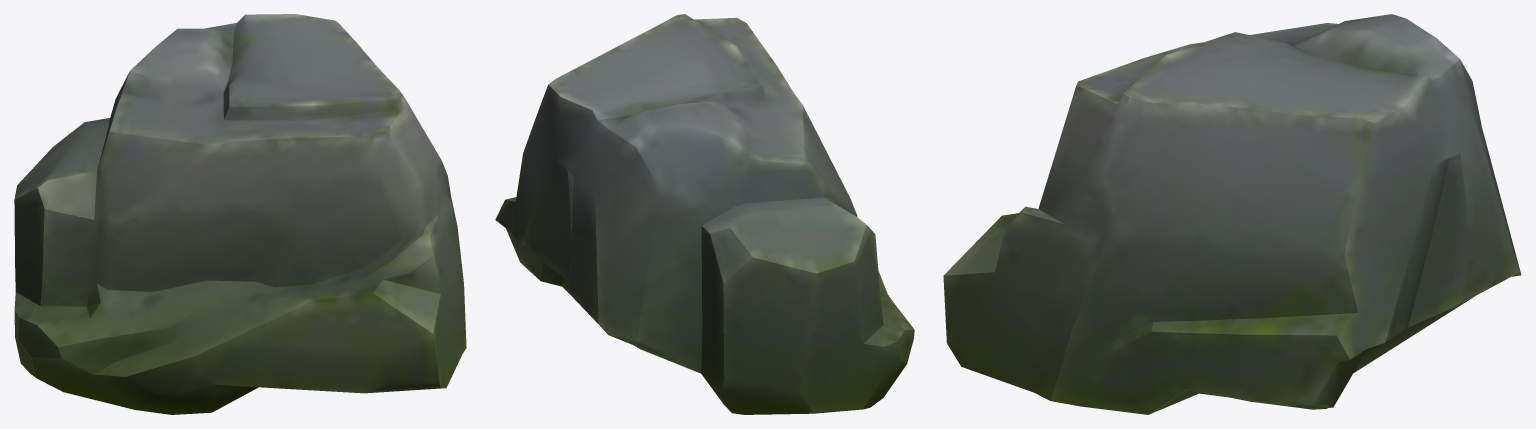
File: rock_3.glb
The picture shows the model from 3 angles, left to right: view 1: azimuth 30°, elevation 25°; view 2: azimuth 150°, elevation 25°; view 3: azimuth 270°, elevation 25°; orthographic projection. The views are drawn at different scales.
Visible parts, largest first — view 1: Rock_Medium_3; view 2: Rock_Medium_3; view 3: Rock_Medium_3.
Boxes of the visible parts, <box> form: Rock_Medium_3: <box>14,14,466,414</box>; Rock_Medium_3: <box>495,14,914,414</box>; Rock_Medium_3: <box>943,14,1521,414</box>.
Size of the model in its own units: 3.42 by 2.32 by 3.48.
Materials: 1 (1 with a texture image).
